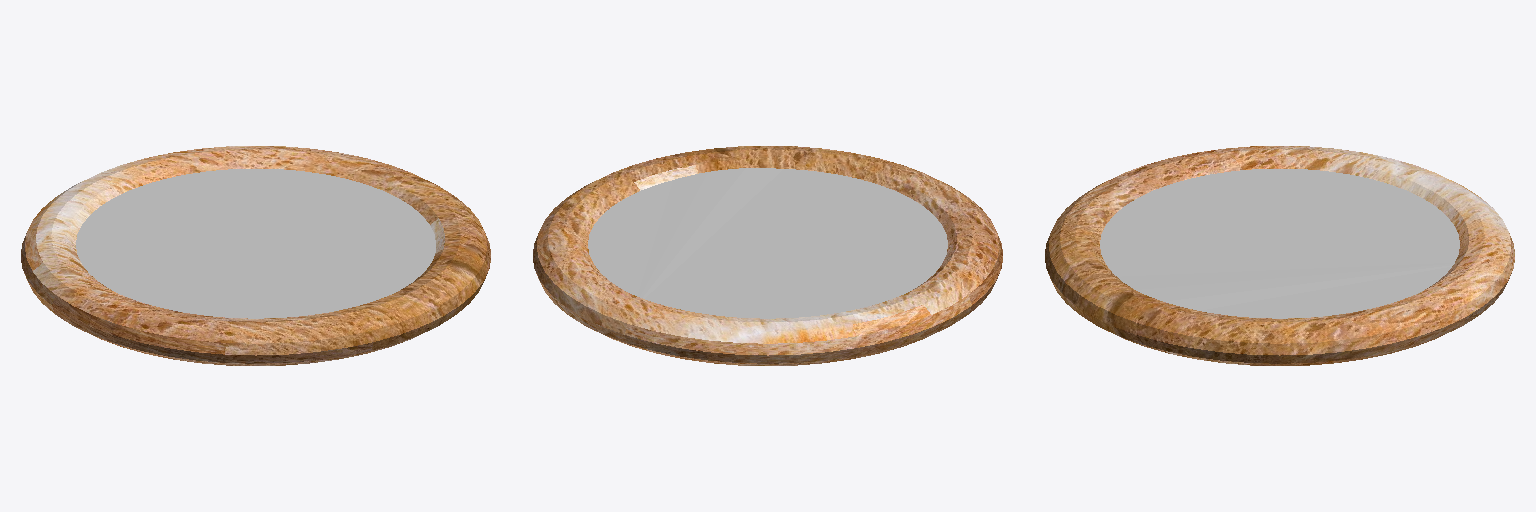
The picture shows the model from 3 angles: view 1: azimuth 30°, elevation 25°; view 2: azimuth 150°, elevation 25°; view 3: azimuth 270°, elevation 25°; orthographic projection.
Visible parts, largest first — view 1: Cylinder, Torus.001; view 2: Cylinder, Torus.001; view 3: Cylinder, Torus.001.
Boxes of the visible parts, x1=… form: Cylinder: x1=76, y1=169, x2=435, y2=318; Torus.001: x1=21, y1=146, x2=490, y2=365; Cylinder: x1=588, y1=168, x2=947, y2=318; Torus.001: x1=533, y1=146, x2=1002, y2=365; Cylinder: x1=1100, y1=169, x2=1459, y2=318; Torus.001: x1=1045, y1=146, x2=1514, y2=365.
Bounding box in the file's own units: 4.6 × 0.4317 × 4.6.
Materials: 2 (1 with a texture image).